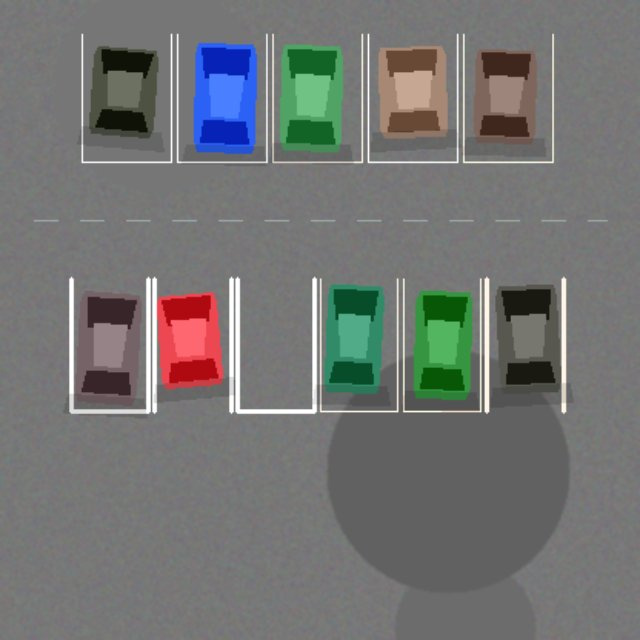space-empty: (237, 278, 314, 411)
space-occupied: (272, 34, 362, 162), (82, 34, 171, 162), (177, 34, 266, 162), (368, 34, 457, 162), (463, 34, 552, 162), (71, 278, 148, 411), (154, 278, 231, 411), (320, 278, 397, 411), (403, 278, 480, 411), (486, 278, 563, 411)
